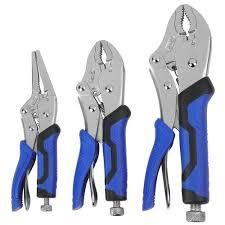pliers: (141, 3, 215, 224), (70, 37, 131, 223), (9, 48, 60, 210)
